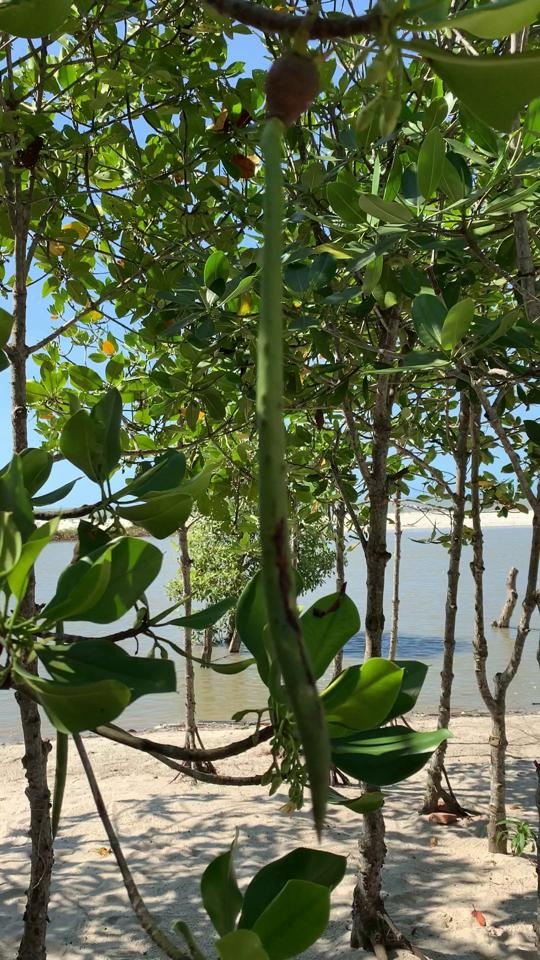setengah matang: (249, 45, 345, 847)
